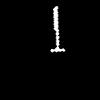half_double_crochet: (51, 6, 64, 51)
